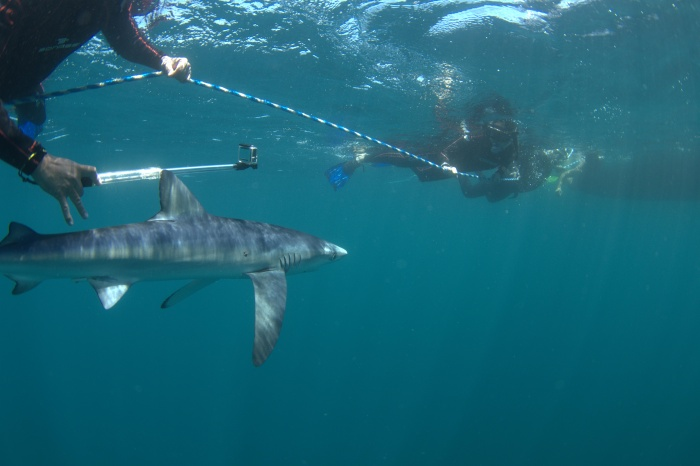Azul: (1, 168, 380, 376)
